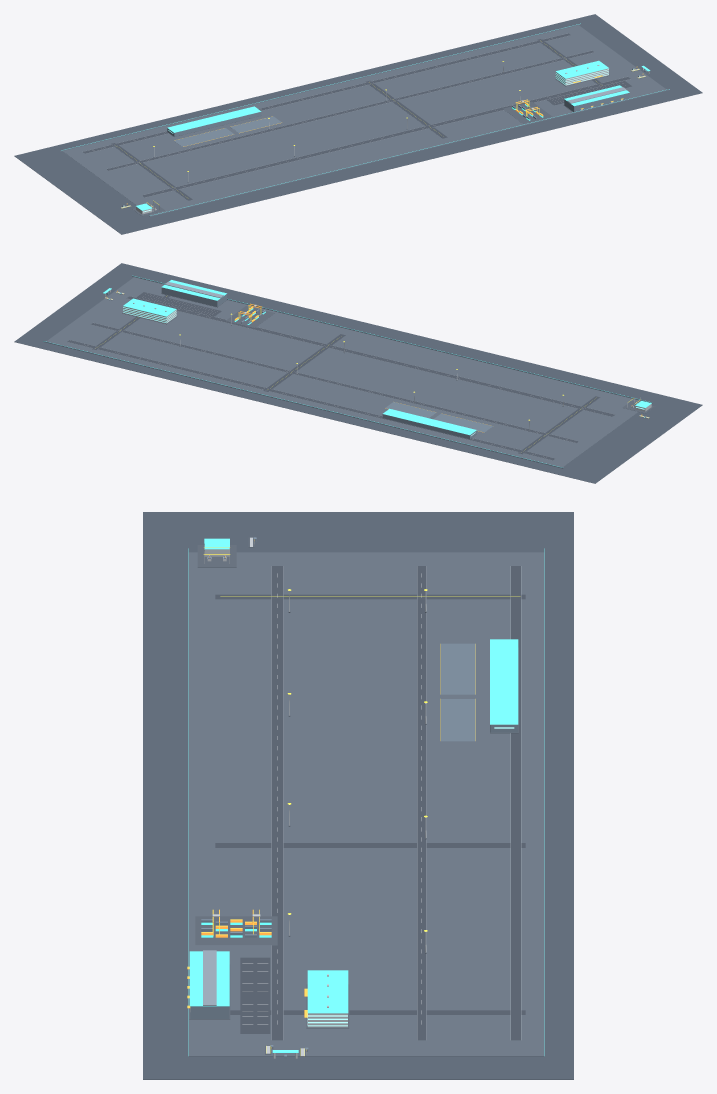
File: site-shell-v4-low.glb
The picture shows the model from 3 angles, top to bottom: view 1: azimuth 30°, elevation 25°; view 2: azimuth 150°, elevation 25°; view 3: azimuth 270°, elevation 25°; orthographic projection. The views are drawn at different scales.
Parts seen in each view (by area): view 1: site-shell-v5_site_apron, site-shell-v5_site_ground, site-shell-v5_site_asphalt, site-shell-v5_site_cyan, site-shell-v5_bldg_wall, site-shell-v5_site_curb, site-shell-v5_deferred_zone, site-shell-v5_site_dark, site-shell-v5_office_facade; view 2: site-shell-v5_site_apron, site-shell-v5_site_ground, site-shell-v5_site_asphalt, site-shell-v5_site_cyan, site-shell-v5_bldg_wall, site-shell-v5_site_curb, site-shell-v5_site_dark, site-shell-v5_deferred_zone, site-shell-v5_office_facade; view 3: site-shell-v5_site_apron, site-shell-v5_site_ground, site-shell-v5_site_asphalt, site-shell-v5_site_cyan, site-shell-v5_deferred_zone, site-shell-v5_site_dark, site-shell-v5_site_curb, site-shell-v5_bldg_wall.
Part boxes in pixels (box(x1,y1,x2,y2)): site-shell-v5_site_apron: box(63, 25, 666, 215); site-shell-v5_site_ground: box(14, 14, 702, 234); site-shell-v5_site_asphalt: box(83, 33, 631, 200); site-shell-v5_site_cyan: box(61, 23, 669, 215); site-shell-v5_bldg_wall: box(60, 24, 669, 216); site-shell-v5_site_curb: box(86, 33, 630, 197); site-shell-v5_deferred_zone: box(174, 116, 281, 146); site-shell-v5_site_dark: box(120, 69, 646, 216); site-shell-v5_office_facade: box(136, 68, 649, 214); site-shell-v5_site_apron: box(46, 277, 640, 467); site-shell-v5_site_ground: box(14, 263, 702, 483); site-shell-v5_site_asphalt: box(67, 292, 614, 460); site-shell-v5_site_cyan: box(43, 275, 651, 467); site-shell-v5_bldg_wall: box(43, 276, 652, 468); site-shell-v5_site_curb: box(68, 297, 614, 460); site-shell-v5_site_dark: box(104, 291, 654, 439); site-shell-v5_deferred_zone: box(385, 402, 492, 432); site-shell-v5_office_facade: box(104, 290, 651, 411); site-shell-v5_site_apron: box(188, 552, 544, 1056); site-shell-v5_site_ground: box(143, 512, 573, 1079); site-shell-v5_site_asphalt: box(215, 566, 525, 1040); site-shell-v5_site_cyan: box(188, 538, 544, 1055); site-shell-v5_deferred_zone: box(441, 643, 475, 741); site-shell-v5_site_dark: box(189, 537, 518, 1056); site-shell-v5_site_curb: box(271, 566, 521, 1039); site-shell-v5_bldg_wall: box(188, 537, 544, 1059).
Bounding box in the file's own units: 1340 × 25.67 × 430.
